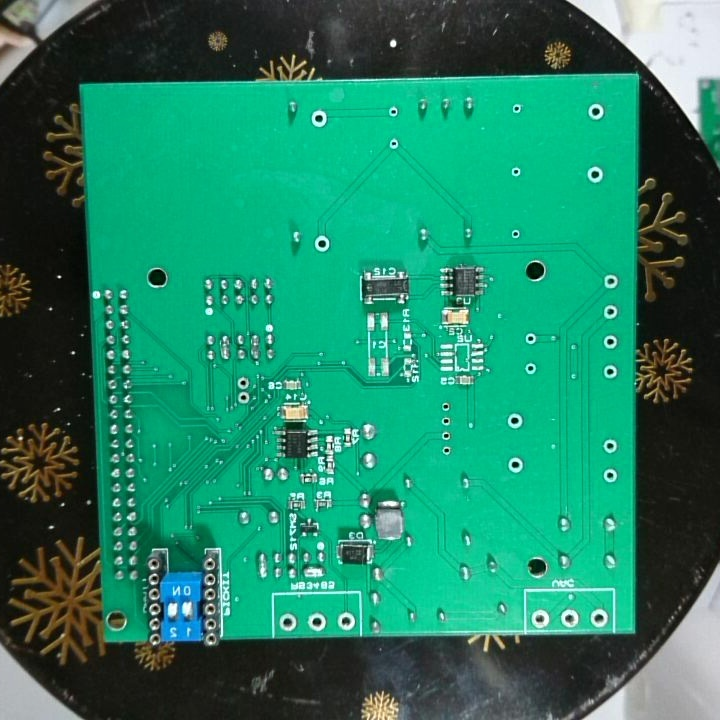F: (305, 609, 329, 633), (276, 610, 299, 635), (335, 608, 358, 632), (559, 607, 583, 630), (589, 606, 612, 630), (505, 455, 527, 477), (584, 164, 606, 186), (599, 269, 620, 292), (528, 609, 552, 629), (308, 107, 329, 129), (586, 100, 606, 123), (312, 232, 332, 254), (505, 411, 526, 430), (601, 466, 619, 486), (601, 438, 619, 457), (601, 333, 618, 353), (602, 303, 620, 321), (508, 101, 526, 119), (235, 389, 252, 407), (522, 360, 539, 378), (235, 374, 252, 391), (522, 331, 539, 348), (386, 103, 402, 121), (508, 226, 524, 244), (602, 364, 619, 380), (508, 163, 523, 180), (387, 136, 402, 152), (439, 428, 453, 443), (439, 443, 453, 458), (439, 415, 453, 428), (439, 400, 451, 415)
P: (300, 563, 326, 581), (255, 549, 270, 580), (248, 330, 262, 363), (217, 334, 232, 361)
